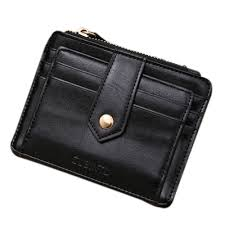monedero: (10, 29, 213, 207)
